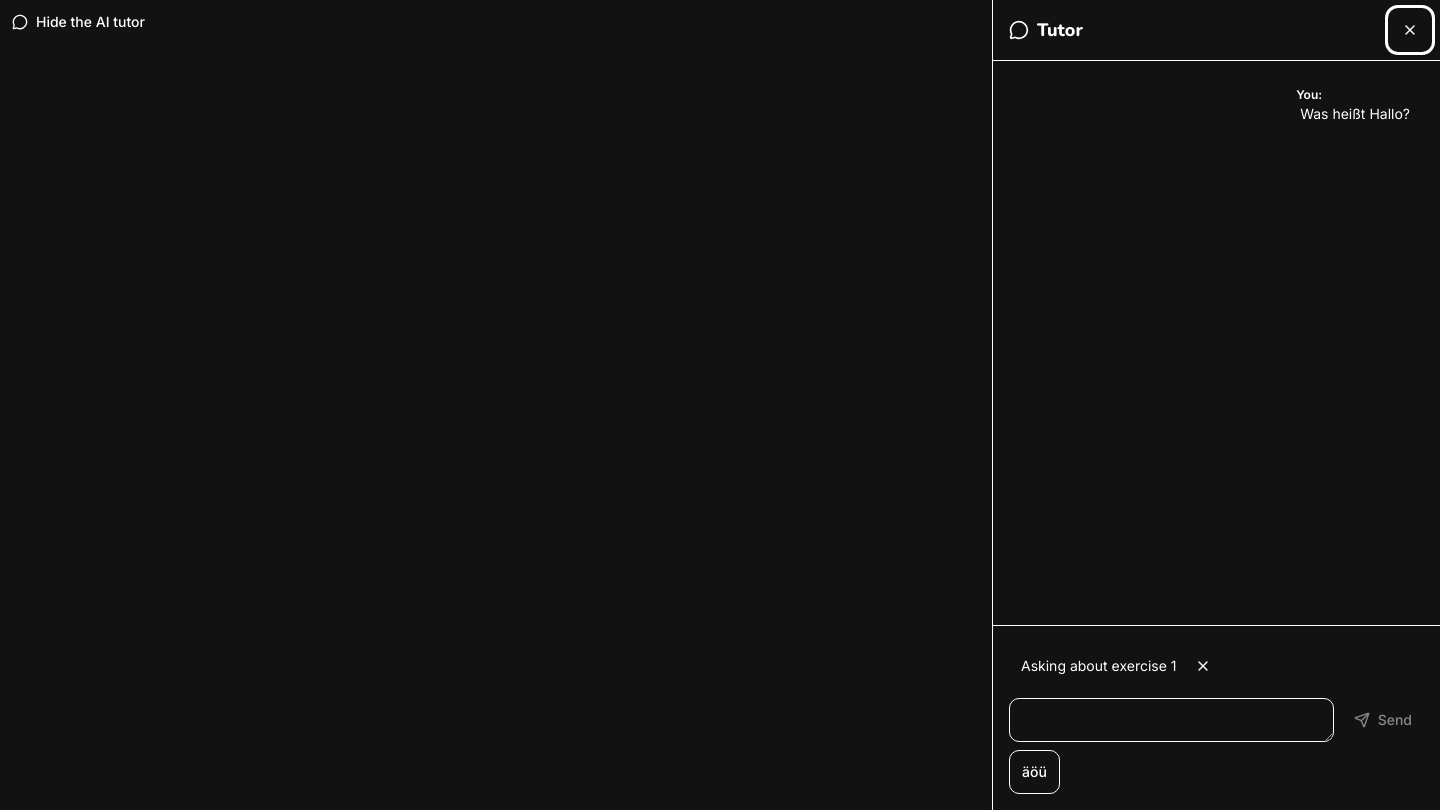
Test: LessonChat › loads the thread and sends a question about an exercise
Expected: the list item "Was heißt Hallo?" is shown, 1300,105 -> 1410,122
Expected: the text "Asking about exercise 1" is shown, 1009,642 -> 1224,690
In the text box named "Your message": (1171, 720) 1009,698 -> 1334,742, type "Warum?"
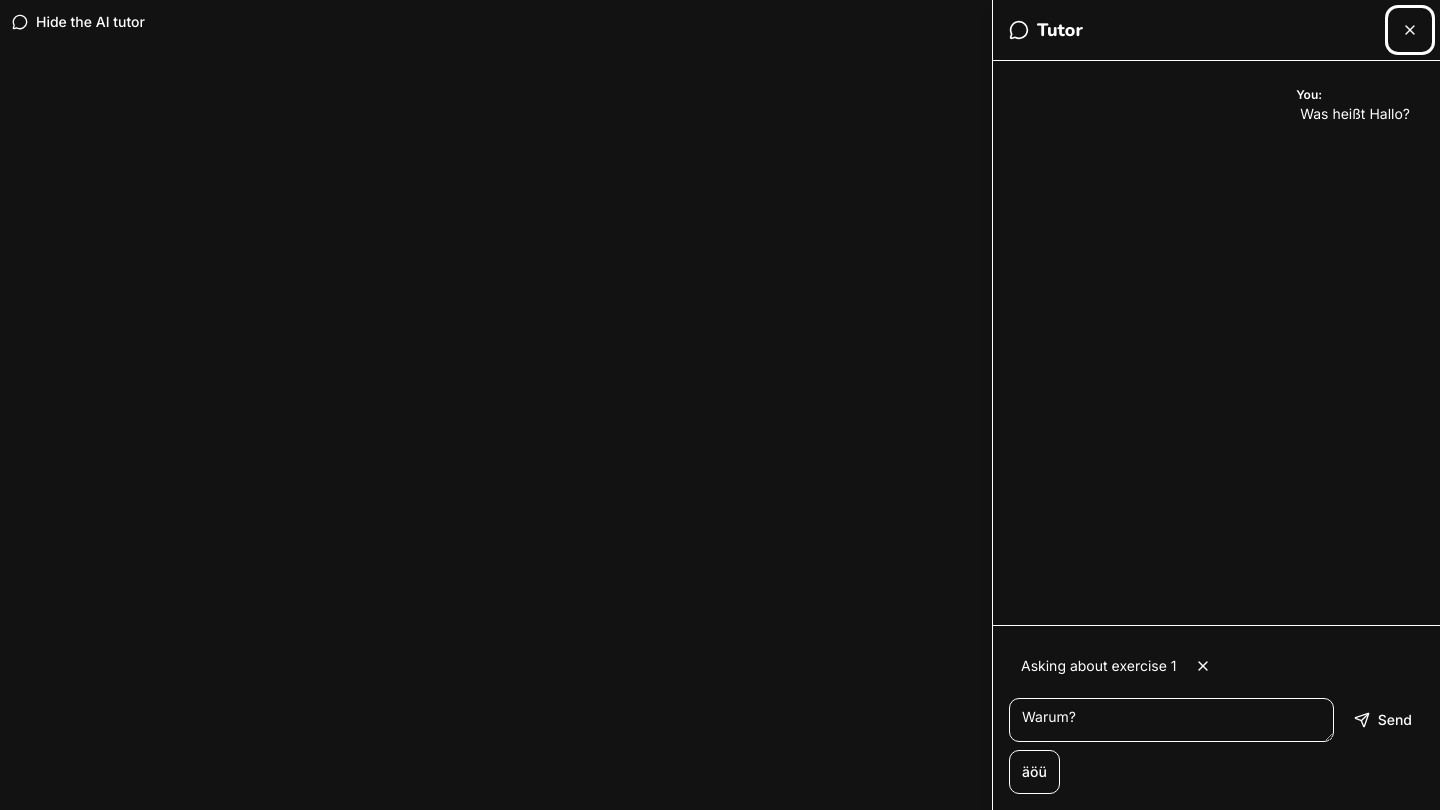
Click the button "Send": (1383, 720) 1342,698 -> 1424,742
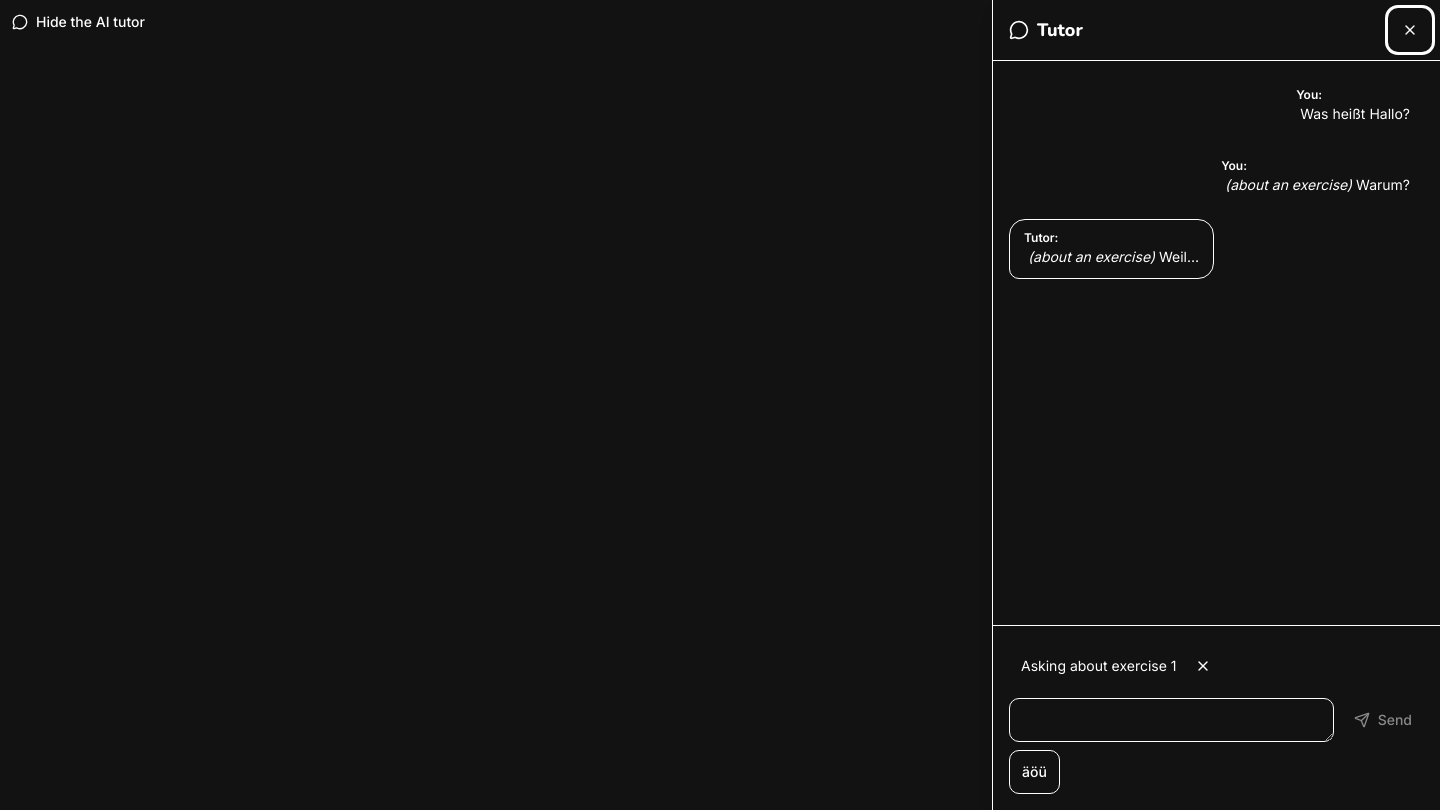
Expected: the text "Asking about exercise 1" is shown, 1009,642 -> 1224,690
Now the list item "Weil…" is shown, box 1159,248 -> 1199,264
Now the text box named "Your message" is empty, box 1009,698 -> 1334,742
